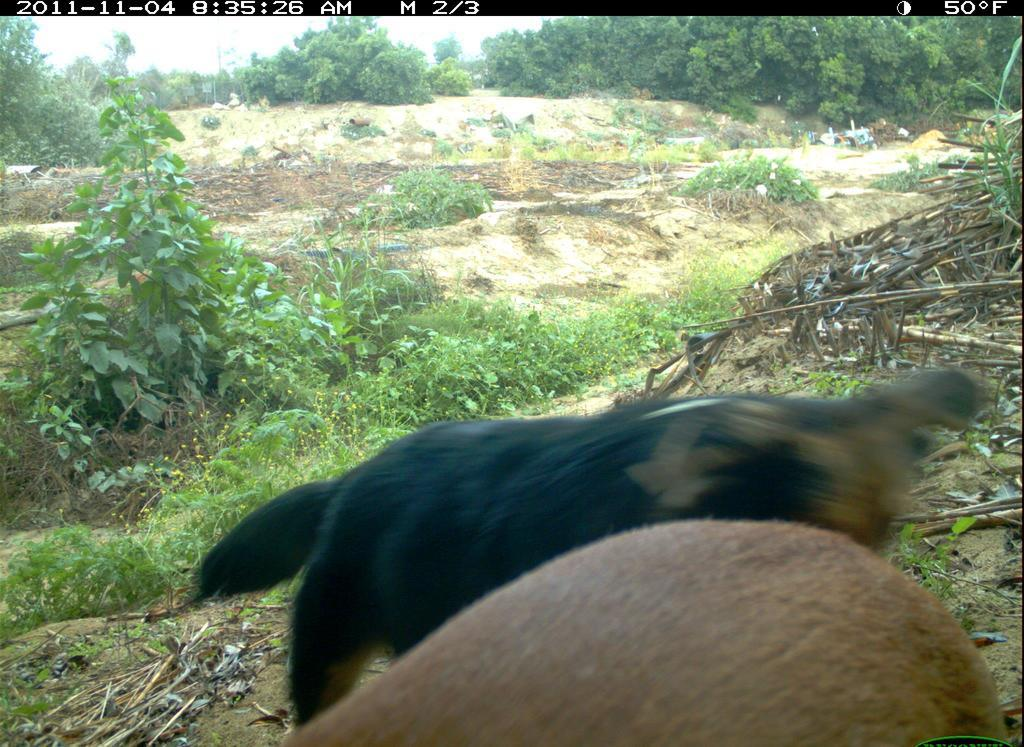dog: (173, 359, 1003, 742), (221, 511, 1024, 747)
